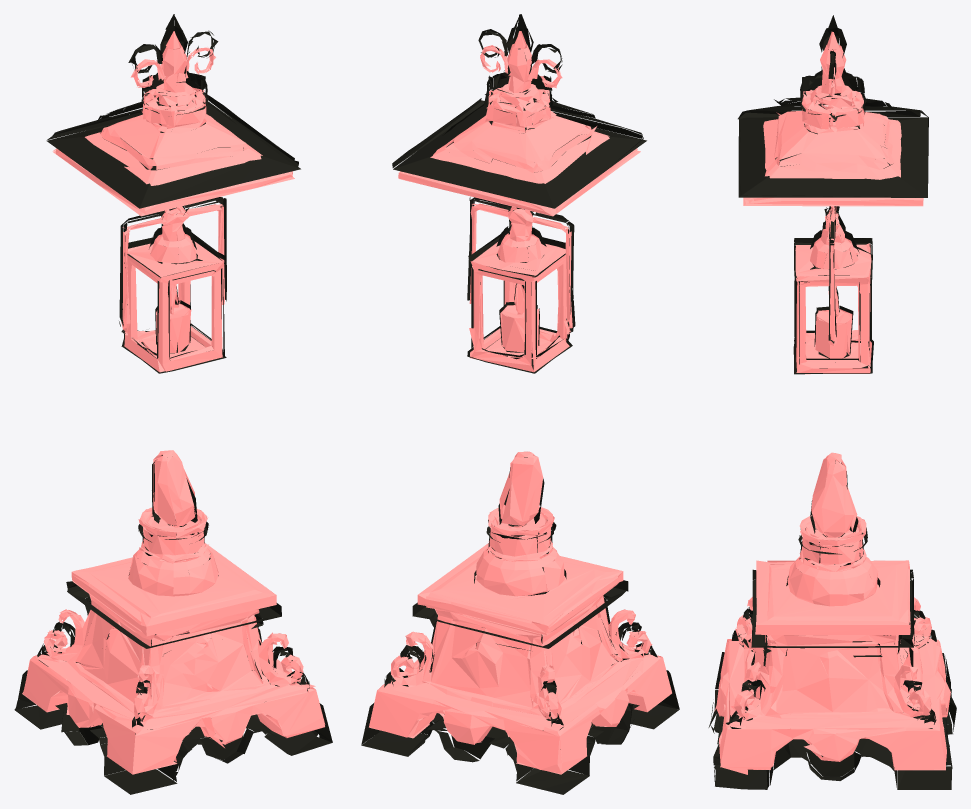
Rendered from df_v2_torch_or_soul_light_e_a.glb.
3 renders of one model, left to right at view 1: azimuth 30°, elevation 25°; view 2: azimuth 150°, elevation 25°; view 3: azimuth 270°, elevation 25°, orthographic.
Visible parts, largest first — view 1: torch_or_soul_light_e_mesh_01, torch_or_soul_light_e_mesh_01_ink_outline; view 2: torch_or_soul_light_e_mesh_01, torch_or_soul_light_e_mesh_01_ink_outline; view 3: torch_or_soul_light_e_mesh_01, torch_or_soul_light_e_mesh_01_ink_outline.
Boxes of the visible parts, x1,y1,x2,y2 form: torch_or_soul_light_e_mesh_01: [22, 31, 325, 774]; torch_or_soul_light_e_mesh_01_ink_outline: [14, 14, 332, 794]; torch_or_soul_light_e_mesh_01: [369, 31, 671, 774]; torch_or_soul_light_e_mesh_01_ink_outline: [361, 14, 679, 794]; torch_or_soul_light_e_mesh_01: [714, 31, 950, 774]; torch_or_soul_light_e_mesh_01_ink_outline: [708, 15, 956, 789].
Size of the model in its own units: 1.05 by 3.43 by 1.06.
